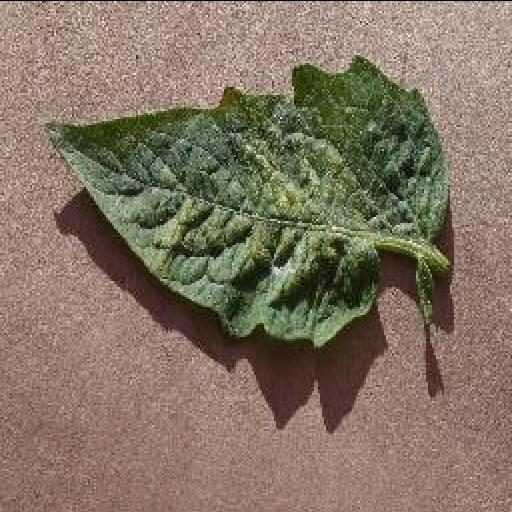disease_tomato: (43, 57, 449, 345)
